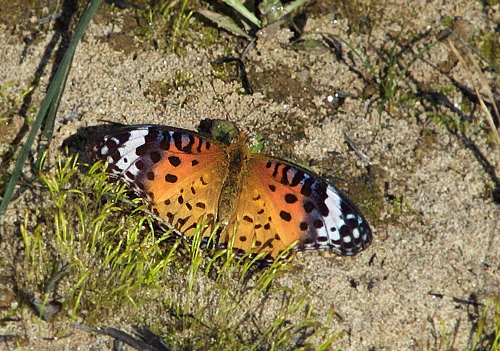Argyreus hyperbius: (88, 79, 376, 264)
butterfly: (86, 77, 374, 262)
